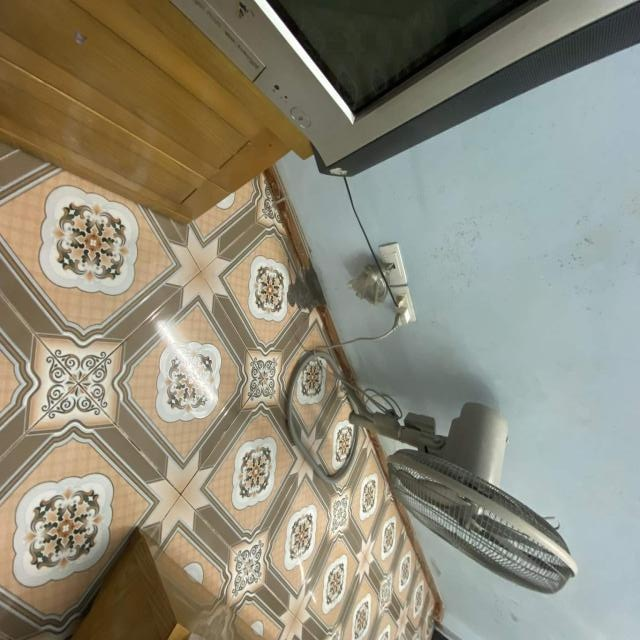outlet: (379, 242, 408, 285), (388, 285, 417, 324)
